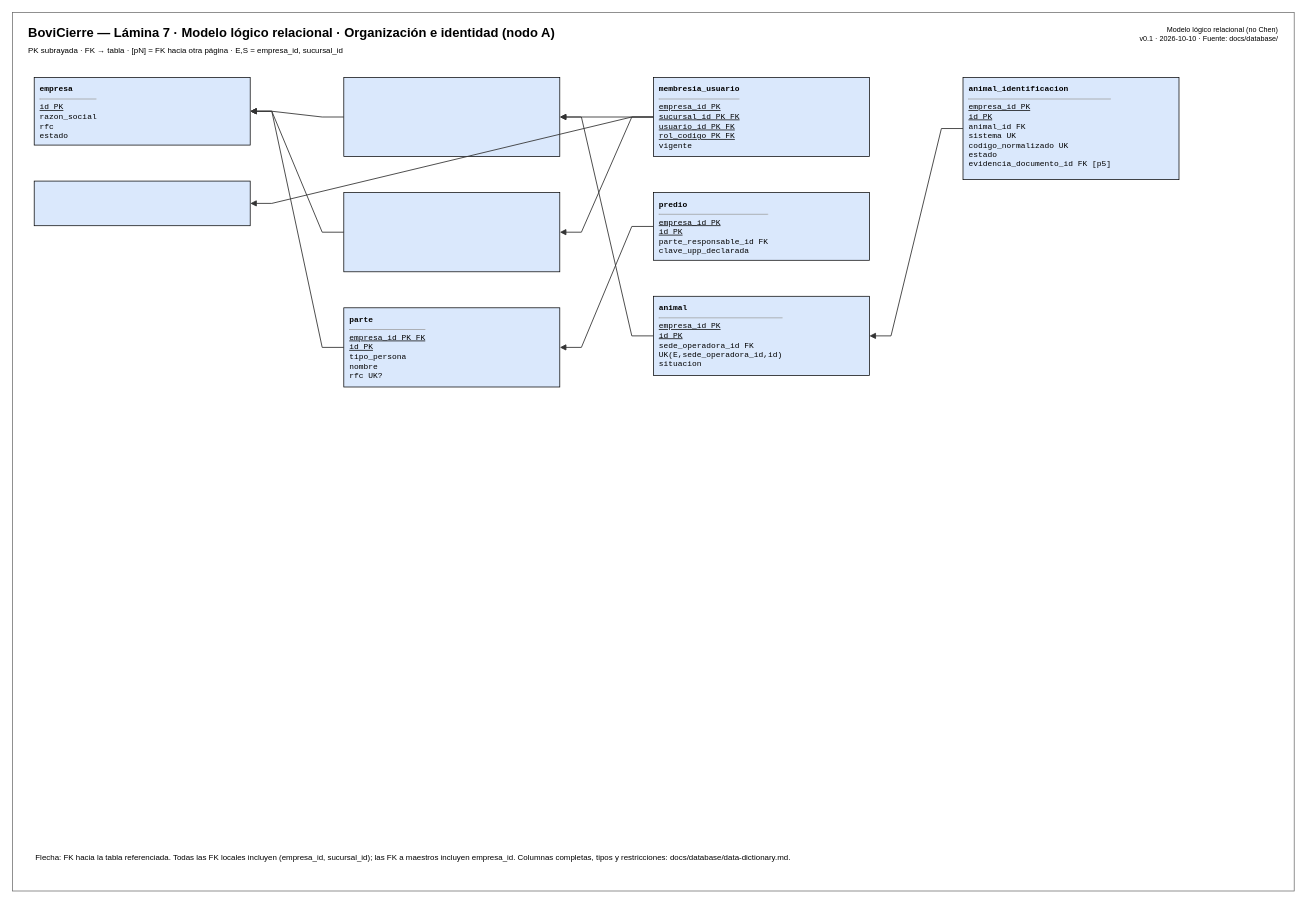
This 1307x904 diagram has some shape labels left out. Here are the shapes that lost their labels. From the top down, the box of each, then its label:
(343, 77, 560, 157): sucursal empresa_id PK FK id PK codigo UK nombre nodo_dueno
(33, 180, 250, 226): rol_aplicacion codigo PK descripcion
(343, 192, 560, 272): usuario empresa_id PK FK id PK login_normalizado UK hash_contrasena estado
